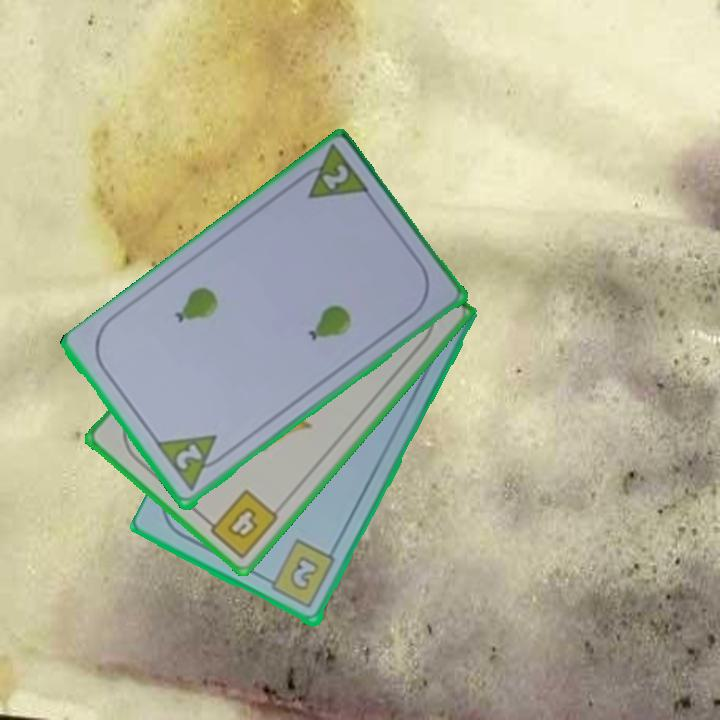2b: (260, 536, 339, 612)
2p: (291, 142, 373, 203), (171, 441, 205, 474)
4b: (199, 486, 282, 562)
